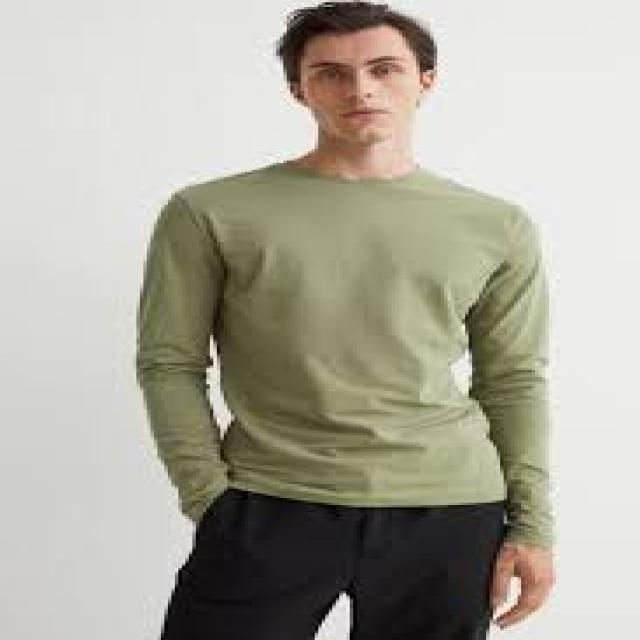plain: (139, 153, 557, 504)
